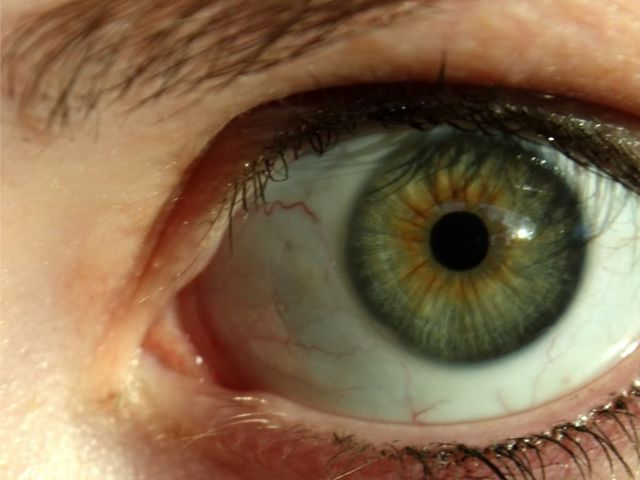iris: (338, 130, 591, 367)
pupil: (427, 210, 490, 274)
